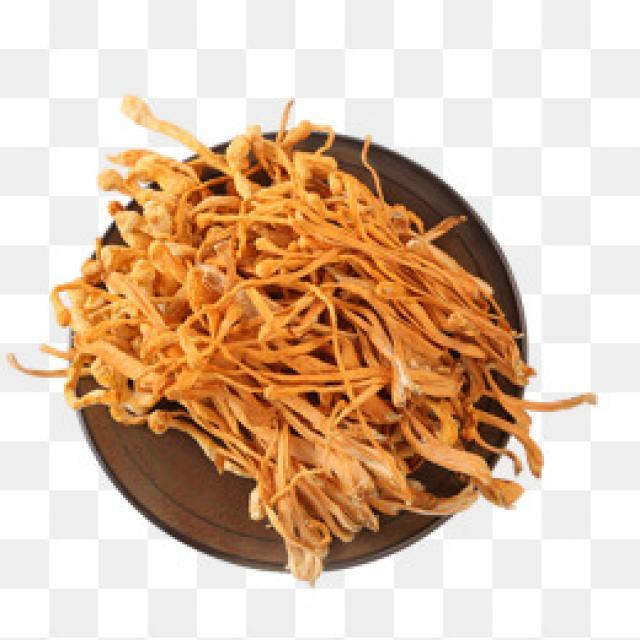Cordyceps militaris: (11, 87, 598, 586)
